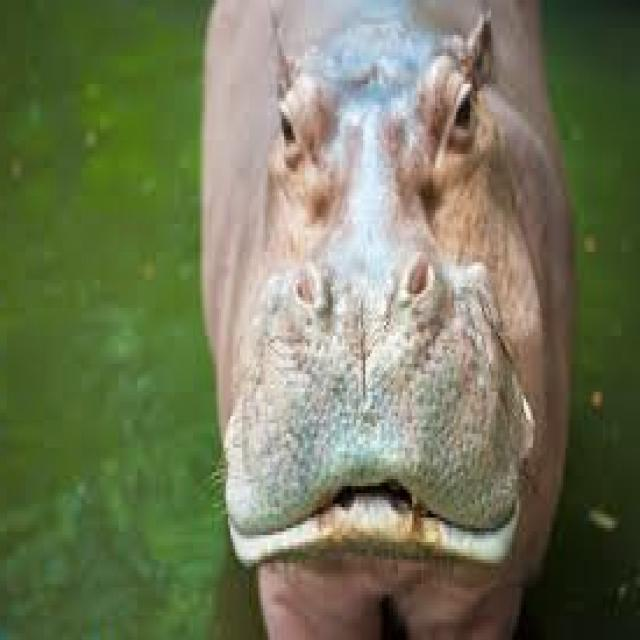hippopotamus: (205, 0, 573, 637)
